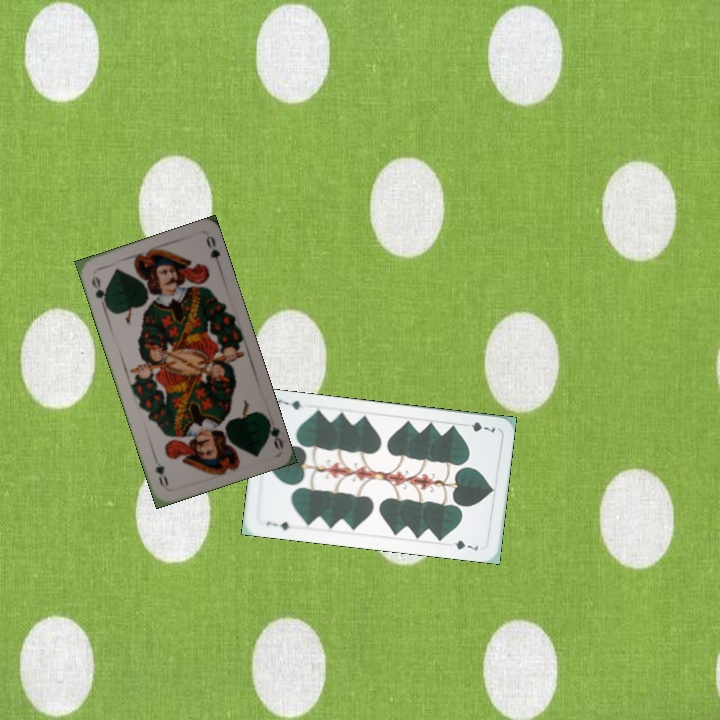G7: (458, 418, 498, 435), (262, 517, 292, 533)
GO: (261, 412, 286, 452), (87, 272, 109, 310)
